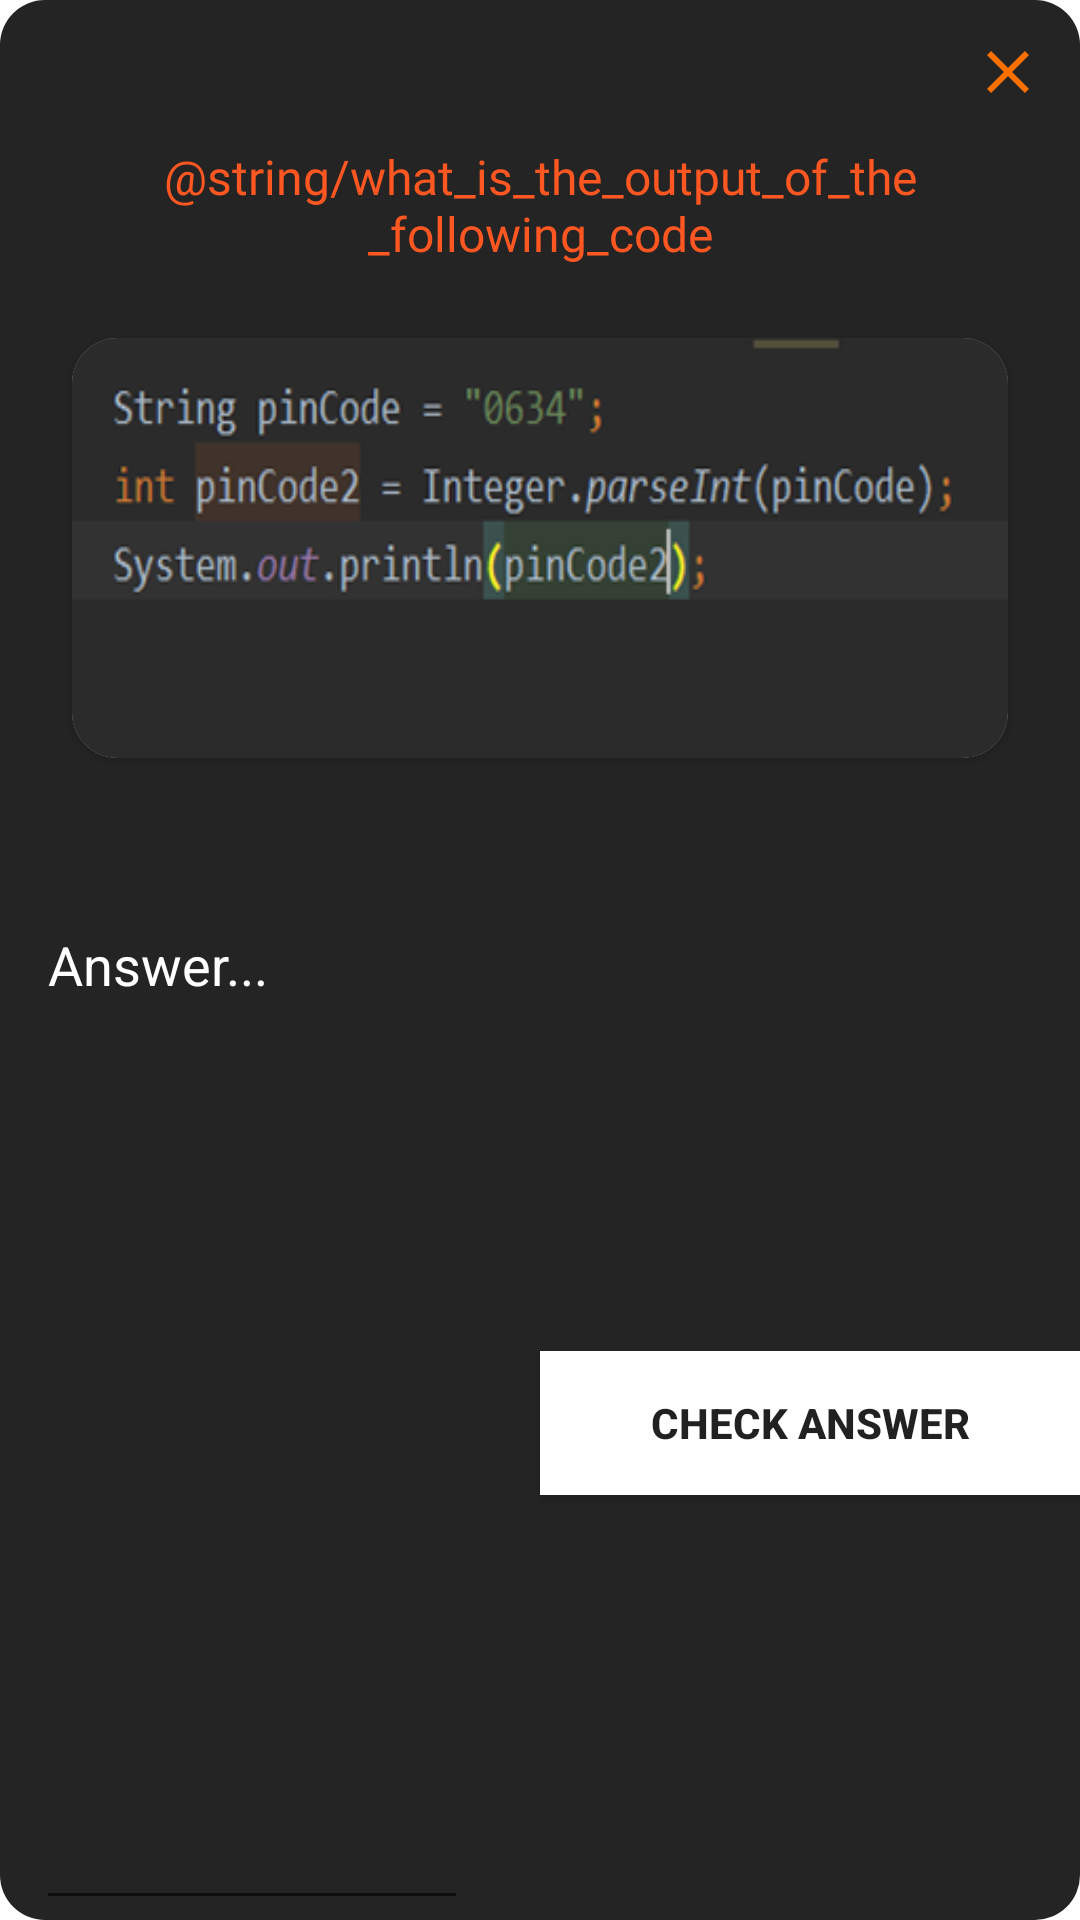

Named icons in this screenshot (1080*1920) and their centers, (x,y):
close: (1008,72)
